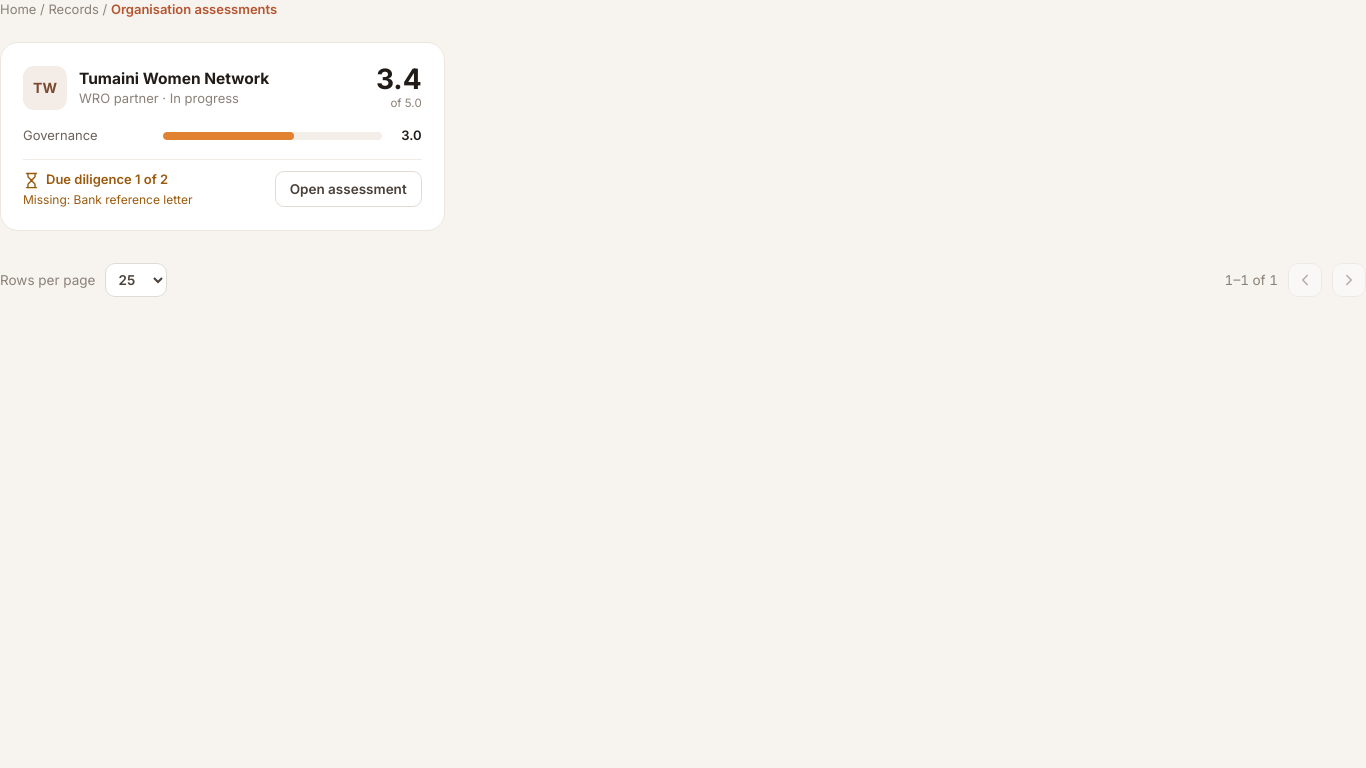
Scenario: assessment cards › opens an organisation's assessment in the record drawer
Expected: the text "TW" is shown, 23,66 -> 67,110
Expected: the text "Due diligence 1 of 2" is shown, 23,170 -> 192,190
Click the button "Open assessment".
click(348, 189)  # box 275,171 -> 422,207
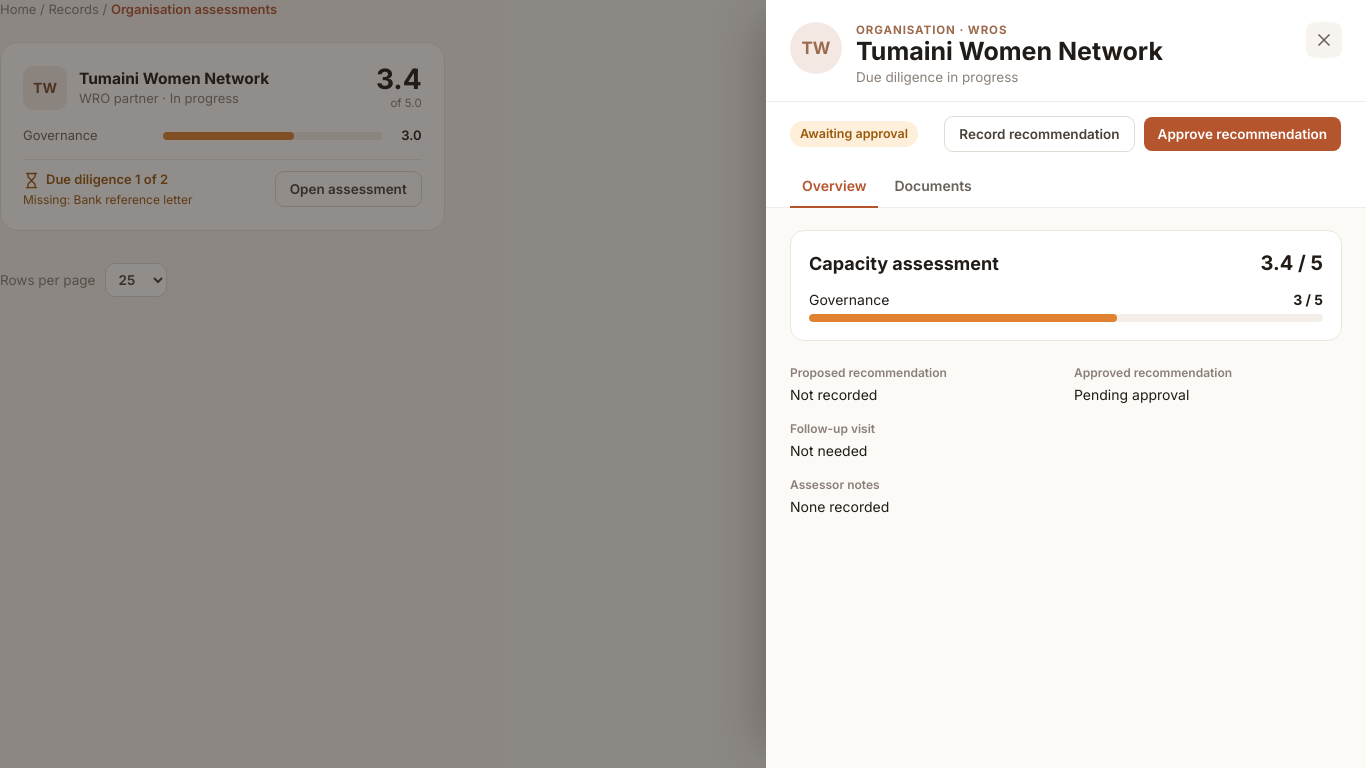
Expected: the dialog "Tumaini Women Network" shows "Capacity assessment", 809,253 -> 999,274
Expected: the dialog "Tumaini Women Network" shows "3.4 / 5", 766,0 -> 1365,767
Click the tab "Documents".
click(933, 187)  # box 882,166 -> 984,208
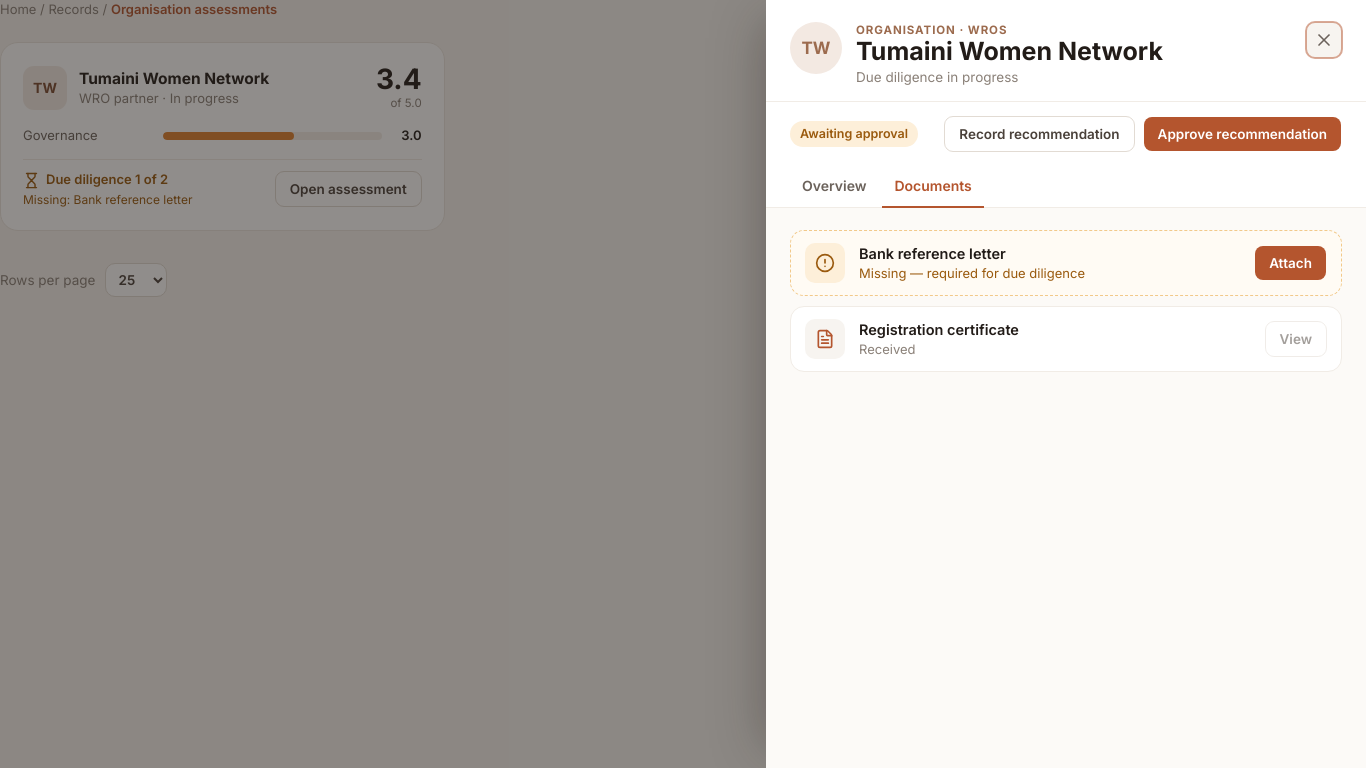
Expected: the button with aria-label "Attach Bank reference letter" is enabled, 1254,245 -> 1327,281
